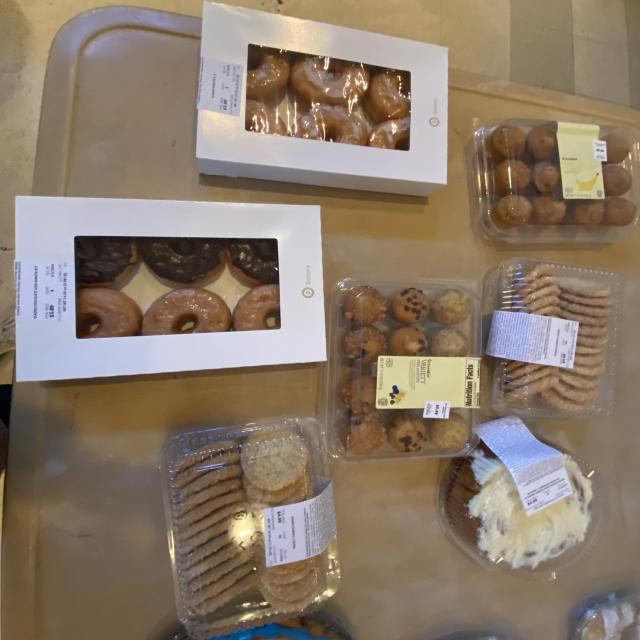Bread: (15, 196, 326, 381), (197, 2, 447, 196), (159, 418, 340, 639), (323, 278, 481, 461), (438, 418, 608, 578), (483, 258, 621, 418), (466, 119, 639, 244), (209, 609, 355, 640), (566, 589, 639, 640), (153, 624, 192, 640)
